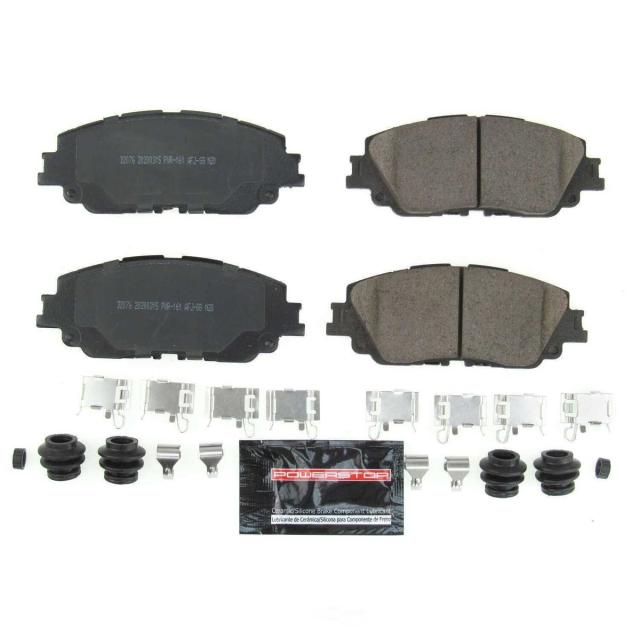brake_pad: (35, 100, 308, 225), (30, 252, 310, 366), (323, 257, 593, 371), (334, 110, 611, 220)
